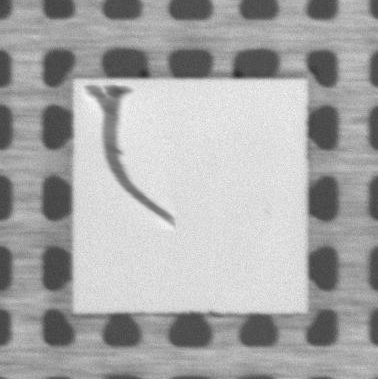DIE_INK: (79, 80, 177, 233)
